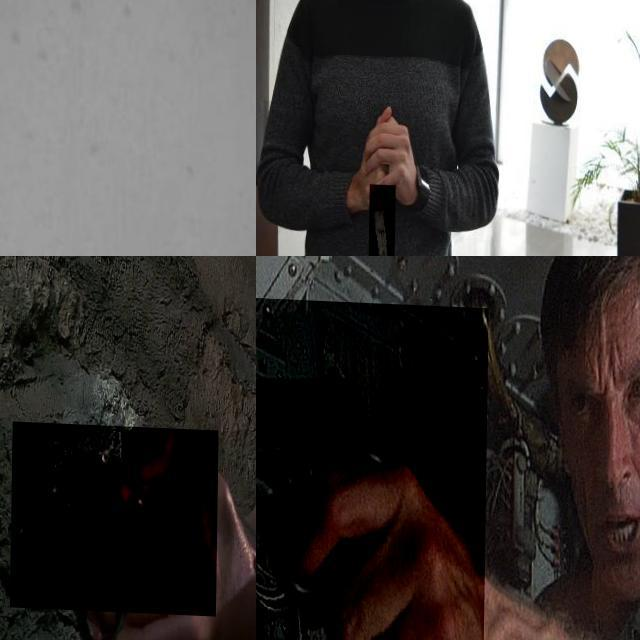-: (369, 181, 397, 256)
gun-knife-thesis - v11 Yolov5 augmented: (256, 294, 489, 640), (12, 421, 220, 614)
